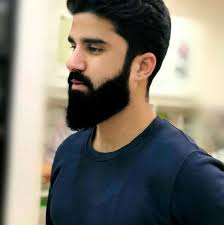b.y: (67, 71, 99, 129)
